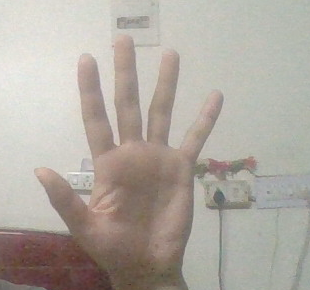move: (35, 34, 230, 290)
